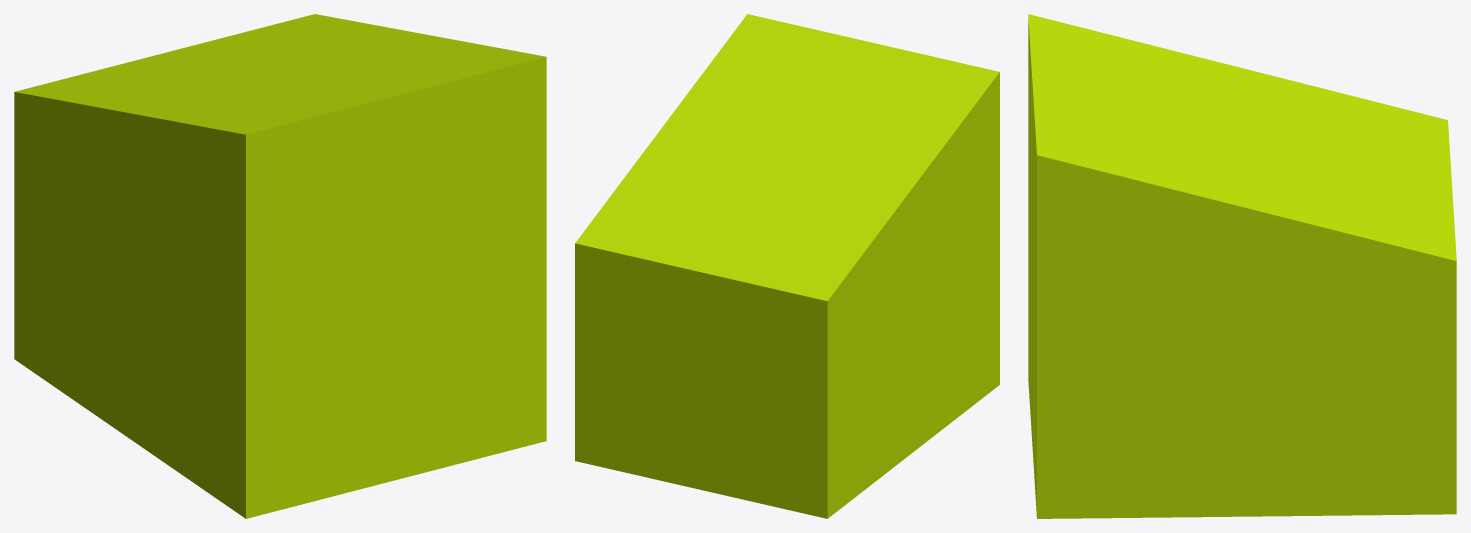
Rendered from post.fbx.
3 views of the same model, side by side, from view 1: azimuth 30°, elevation 25°; view 2: azimuth 150°, elevation 25°; view 3: azimuth 270°, elevation 25° (orthographic). The views are drawn at different scales.
Visible parts, largest first — view 1: Cube.001; view 2: Cube.001; view 3: Cube.001.
Part boxes in pixels (x1,y1,x2,y2): Cube.001: (14, 14, 546, 518); Cube.001: (575, 14, 999, 518); Cube.001: (1028, 14, 1456, 518).
Size of the model in its own units: 492 by 572 by 611.
